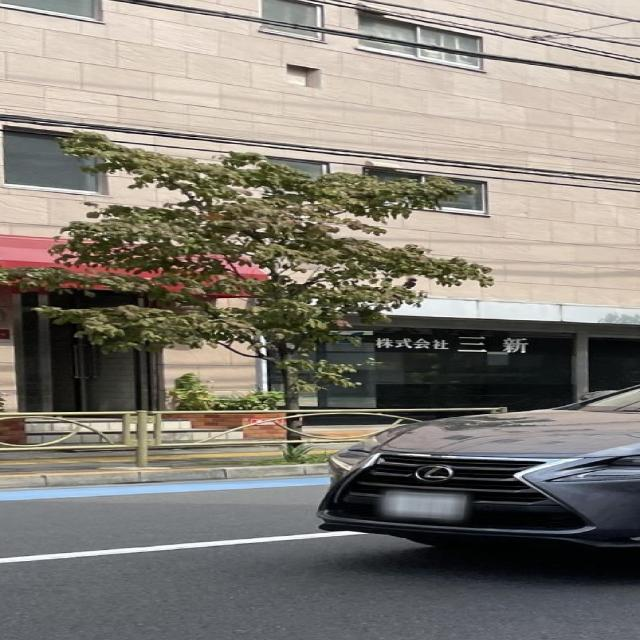dogwood: (0, 128, 497, 462)
